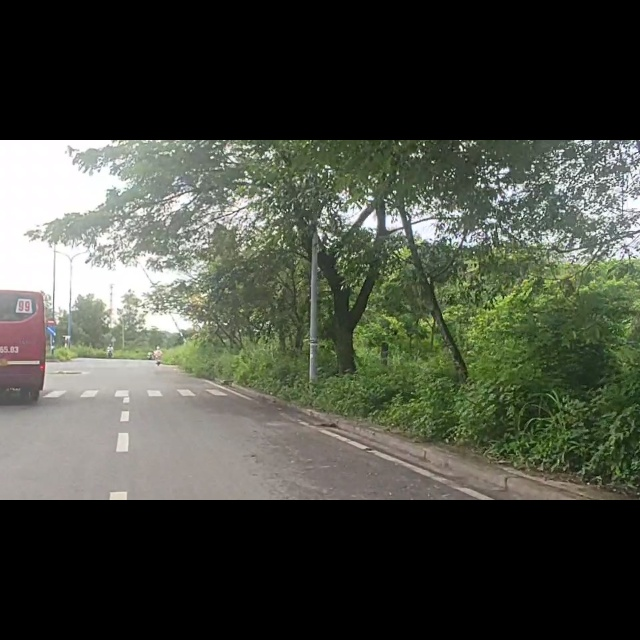bien_hieu_lenh: (47, 329, 57, 346), (47, 316, 55, 328)
